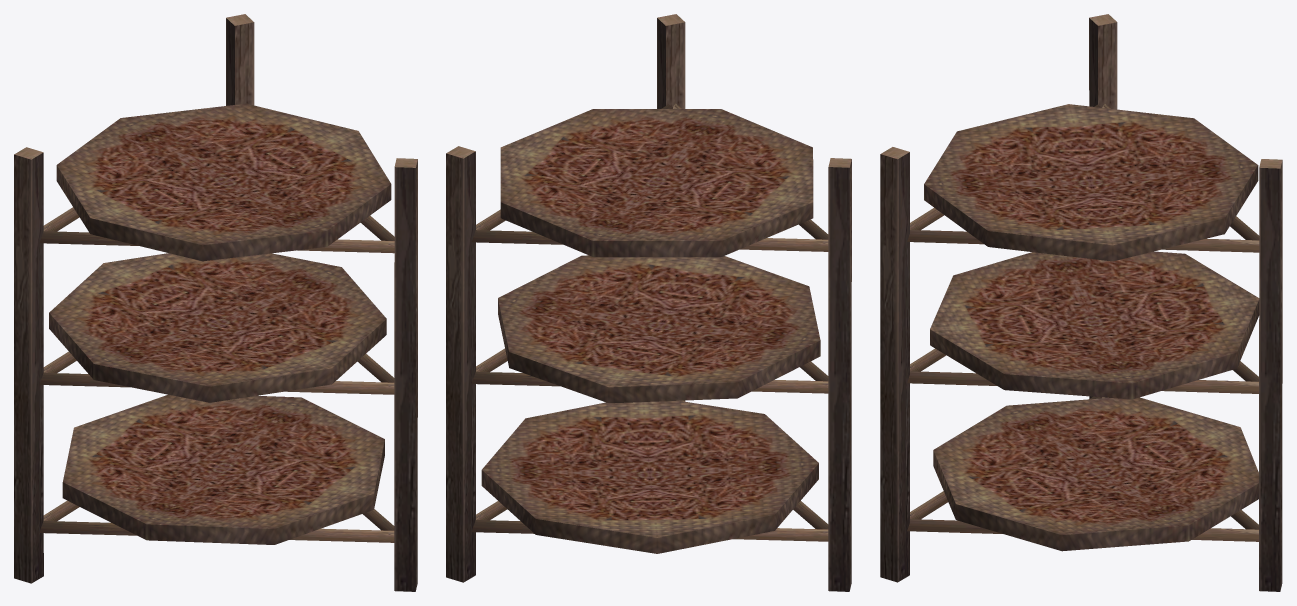
File: fld_wujian27_jgc.FBX
3 views of the same model, side by side, from view 1: azimuth 30°, elevation 25°; view 2: azimuth 150°, elevation 25°; view 3: azimuth 270°, elevation 25° (orthographic).
Visible parts, largest first — view 1: fld_wujian27_jgc; view 2: fld_wujian27_jgc; view 3: fld_wujian27_jgc.
Boxes of the visible parts, x1,y1,x2,y2 form: fld_wujian27_jgc: (14, 14, 417, 591); fld_wujian27_jgc: (446, 14, 851, 591); fld_wujian27_jgc: (880, 14, 1282, 591).
Size of the model in its own units: 11.33 by 13.21 by 11.37.
